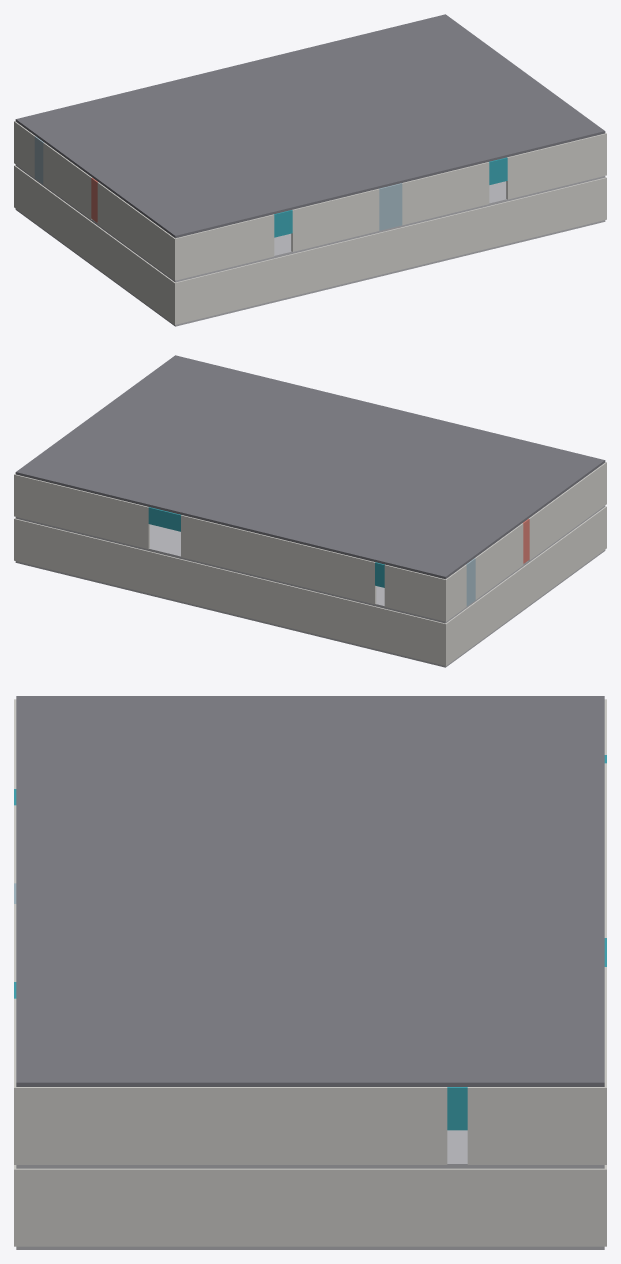
File: stadium_a01.glb
The picture shows the model from 3 angles, top to bottom: view 1: azimuth 30°, elevation 25°; view 2: azimuth 150°, elevation 25°; view 3: azimuth 270°, elevation 25°; orthographic projection. The views are drawn at different scales.
Visible parts, largest first — view 1: slab_1_t0_0, slab_1_t0_5, slab_1_t0_9, slab_1_t0_11, slab_1_t0_4, slab_1_t0_2, slab_1_t0_3, slab_1_t0_6, slab_1_t0_10, slab_1_t0_7, slab_1_t0_1, slab_1_t0_8 (+158 smaller); view 2: slab_1_t7_0, slab_1_t7_5, slab_1_t7_9, slab_1_t7_11, slab_1_t7_4, slab_1_t7_2, slab_1_t7_3, slab_1_t7_6, slab_1_t7_10, slab_1_t7_7, slab_1_t7_1, slab_1_t7_8 (+156 smaller); view 3: slab_1_t0_11, slab_1_t1_11, slab_1_t2_11, slab_1_t3_11, slab_1_t4_11, slab_1_t5_11, slab_1_t6_11, slab_1_t7_11, ext_-1_E_seg1, ext_-1_E_seg4, ext_-1_E_seg7, ext_-1_E_seg10 (+120 smaller).
Boxes of the visible parts, x1,y1,x2,y2 form: slab_1_t0_0: (155, 212, 211, 238); slab_1_t0_5: (335, 169, 390, 194); slab_1_t0_9: (478, 134, 533, 159); slab_1_t0_11: (549, 116, 605, 141); slab_1_t0_4: (299, 177, 354, 203); slab_1_t0_2: (227, 195, 282, 220); slab_1_t0_3: (263, 186, 318, 211); slab_1_t0_6: (371, 160, 425, 185); slab_1_t0_10: (514, 125, 569, 150); slab_1_t0_7: (406, 151, 461, 176); slab_1_t0_1: (191, 204, 246, 229); slab_1_t0_8: (442, 142, 497, 168); slab_1_t7_0: (409, 553, 465, 579); slab_1_t7_5: (230, 510, 285, 535); slab_1_t7_9: (87, 475, 142, 500); slab_1_t7_11: (15, 457, 71, 482); slab_1_t7_4: (266, 518, 321, 544); slab_1_t7_2: (338, 536, 393, 561); slab_1_t7_3: (302, 527, 357, 552); slab_1_t7_6: (195, 501, 249, 526); slab_1_t7_10: (51, 466, 106, 491); slab_1_t7_7: (159, 492, 214, 517); slab_1_t7_1: (374, 545, 429, 570); slab_1_t7_8: (123, 483, 178, 509); slab_1_t0_11: (16, 1050, 89, 1086); slab_1_t1_11: (90, 1050, 163, 1086); slab_1_t2_11: (163, 1050, 236, 1086); slab_1_t3_11: (237, 1050, 310, 1086); slab_1_t4_11: (310, 1050, 383, 1086); slab_1_t5_11: (384, 1050, 457, 1086); slab_1_t6_11: (457, 1050, 530, 1086); slab_1_t7_11: (531, 1050, 604, 1086); ext_-1_E_seg1: (51, 1168, 84, 1246); ext_-1_E_seg4: (149, 1168, 182, 1246); ext_-1_E_seg7: (247, 1168, 280, 1246); ext_-1_E_seg10: (345, 1168, 378, 1246).
Size of what is drawn, in the model's own units: 56.3 by 11.3 by 36.3.
